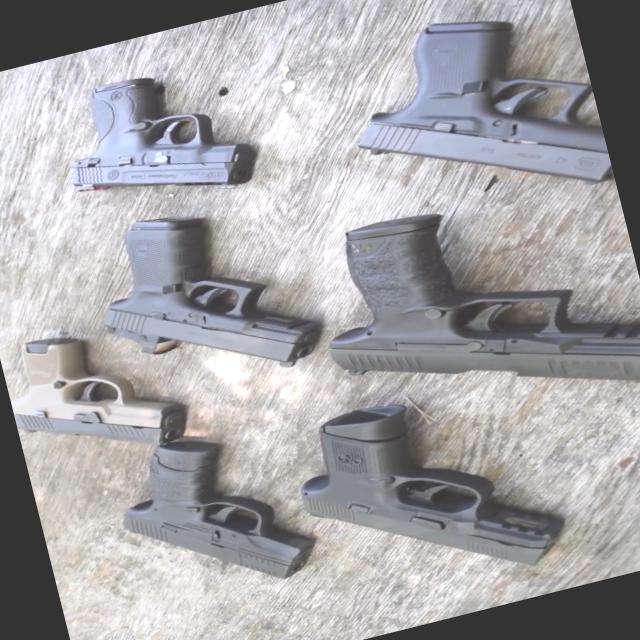handgun: (294, 137, 639, 469), (266, 354, 546, 611), (339, 0, 616, 244), (83, 178, 314, 409), (100, 401, 342, 614), (28, 57, 252, 227), (0, 306, 174, 469)
